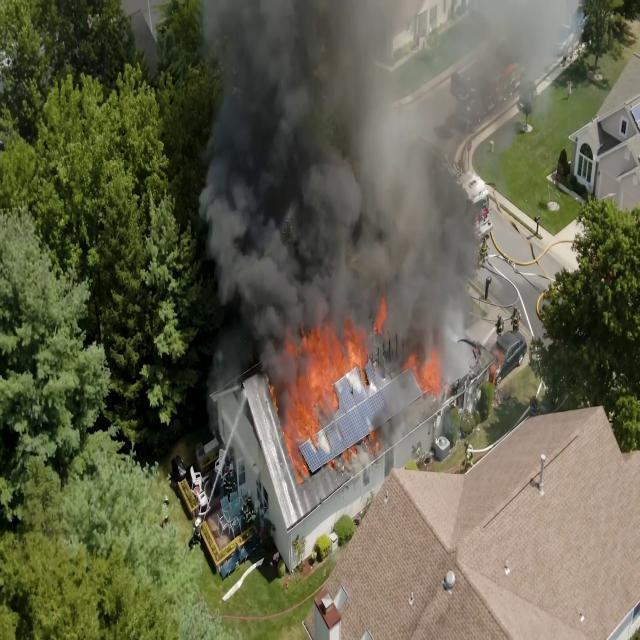Fire: (279, 323, 377, 453)
Smoke: (235, 64, 351, 308)
